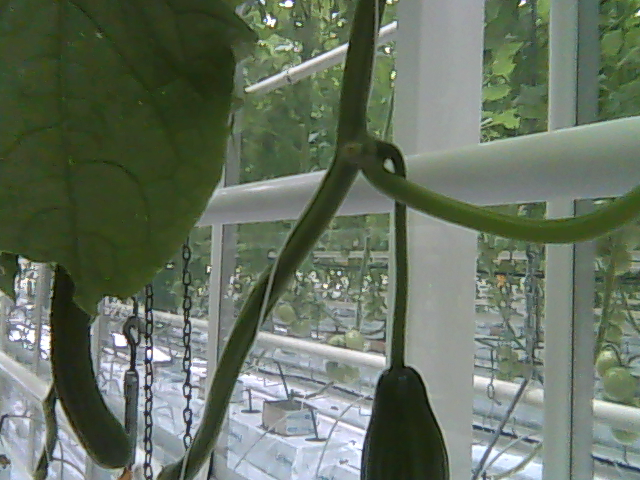concombre: (49, 263, 137, 480), (358, 361, 453, 480)
